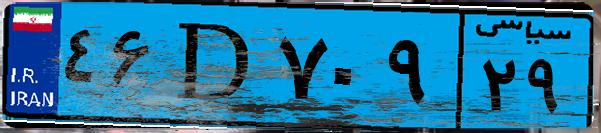0: (330, 28, 385, 110)
2: (475, 38, 525, 113)
4: (57, 26, 110, 100)
6: (110, 28, 158, 98)
7: (270, 28, 330, 110)
9: (385, 28, 445, 110), (525, 38, 570, 115)
D: (158, 12, 270, 120)
